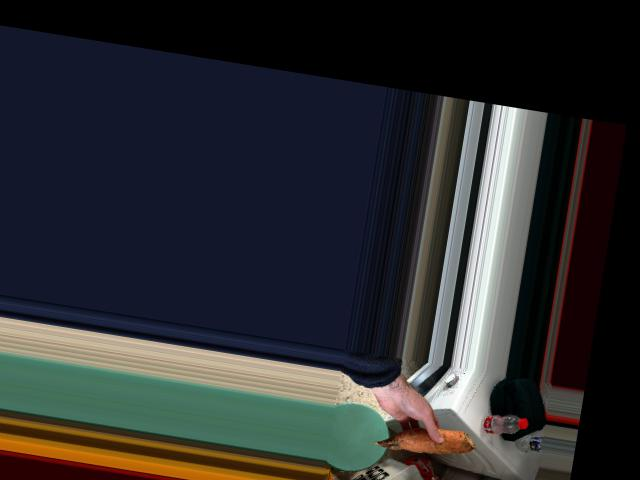sweet_potato: (369, 422, 480, 464)
